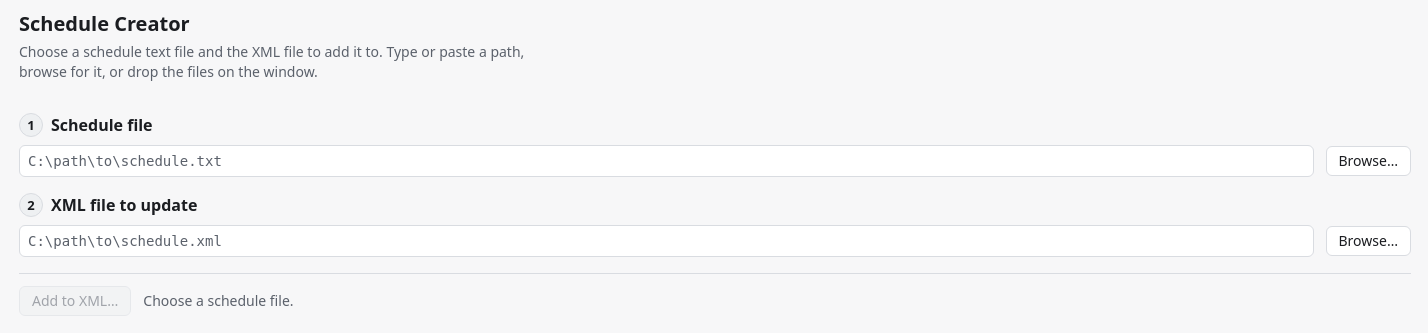
Test case: a typed path is set on Enter, cleaned of quotes
This screenshot has width=1428, height=333.
Type "\"C:\\work\\week.txt\"" into the field labelled "Schedule file".
click(666, 161); type("\"C:\\work\\week.txt\"")  # box [19,145,1314,177]
Then press Enter
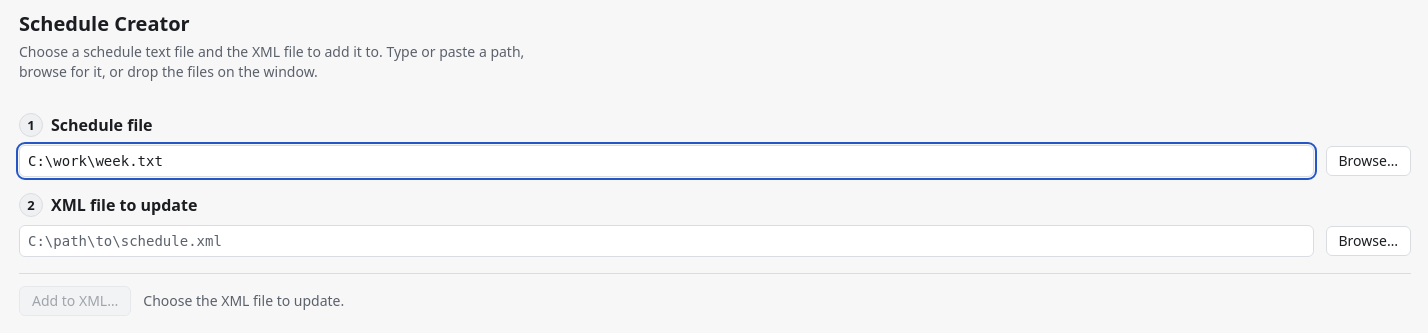
Expected: the field labelled "Schedule file" holds "C:\\work\\week.txt", [19,145,1314,177]
